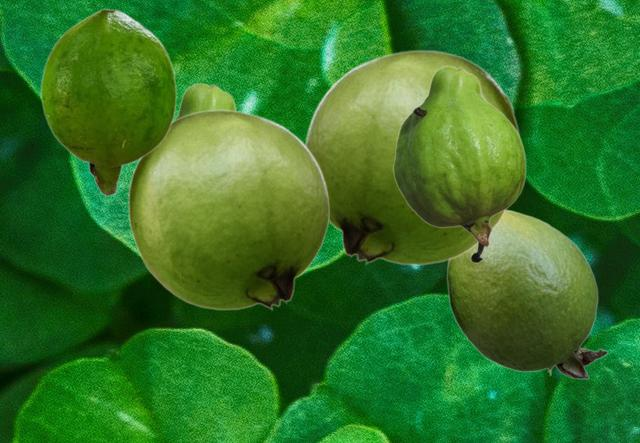guava: (303, 49, 520, 264), (127, 109, 329, 310), (446, 208, 607, 378), (392, 65, 525, 262), (40, 8, 176, 196), (175, 82, 237, 118)
